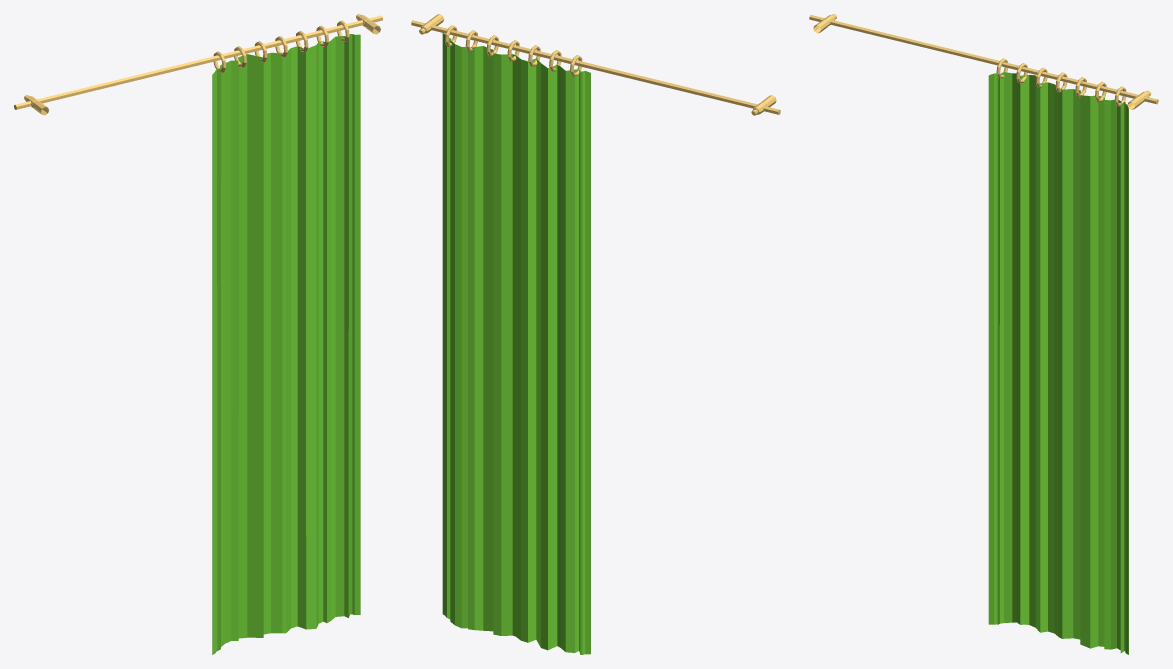
The model's file is штора спальня.fbx.
3 views of the same model, side by side, from view 1: azimuth 30°, elevation 25°; view 2: azimuth 150°, elevation 25°; view 3: azimuth 330°, elevation 25° (orthographic). The views are drawn at different scales.
Parts seen in each view (by area): view 1: Plane.005; view 2: Plane.005; view 3: Plane.005.
Boxes of the visible parts, <box> form: Plane.005: <box>14,14,382,654</box>; Plane.005: <box>411,14,780,654</box>; Plane.005: <box>809,14,1158,654</box>.
Size of the model in its own units: 2568 by 4004 by 231.
